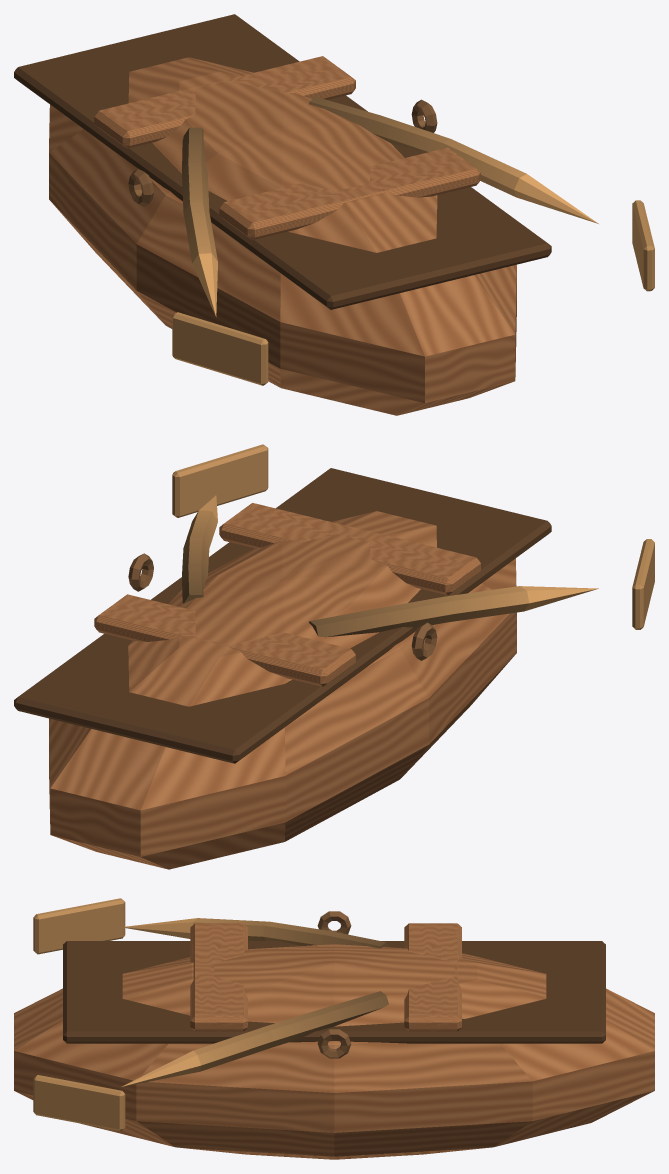
File: RowBoat.glb
The picture shows the model from 3 angles, top to bottom: view 1: azimuth 30°, elevation 25°; view 2: azimuth 150°, elevation 25°; view 3: azimuth 270°, elevation 25°; orthographic projection. The views are drawn at different scales.
Parts seen in each view (by area): view 1: RowBoat; view 2: RowBoat; view 3: RowBoat.
Part boxes in pixels (x1,y1,x2,y2): RowBoat: [14, 14, 654, 415]; RowBoat: [14, 444, 654, 869]; RowBoat: [14, 898, 654, 1159].
Bounding box in the file's own units: 2.82 × 1.2 × 3.89.
1 material, 1 textured.
